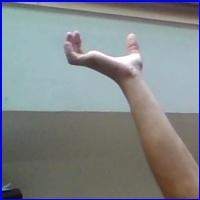space: (59, 25, 151, 85)
